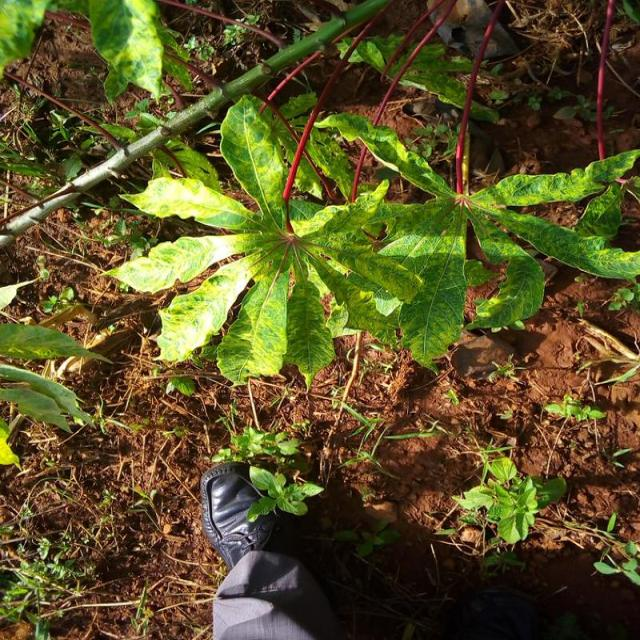cassava leaf: (101, 91, 448, 388)
